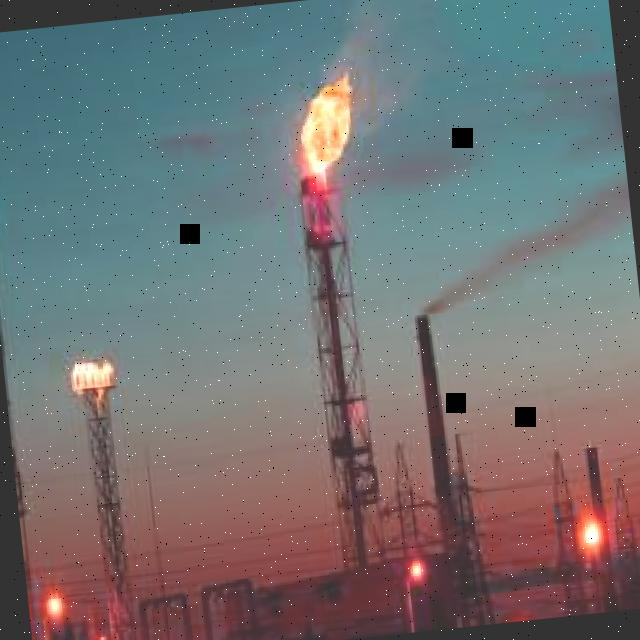fire: (301, 70, 351, 172)
smoke: (419, 179, 630, 311), (317, 0, 448, 166)
